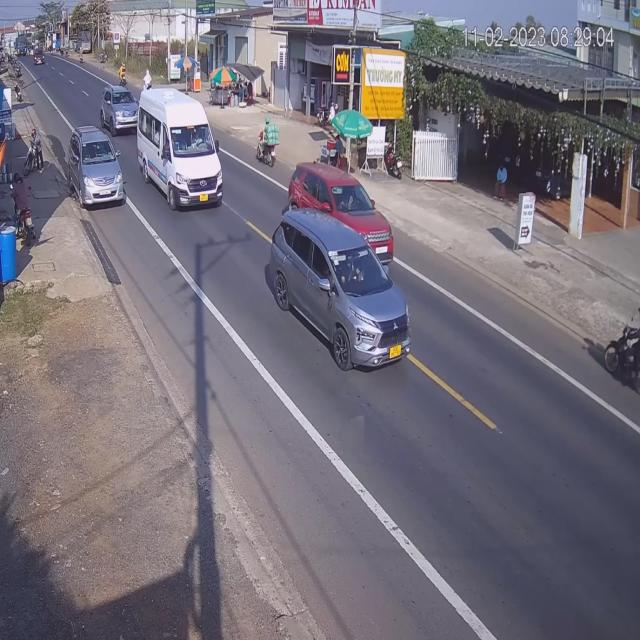bus: (137, 85, 223, 211)
car: (270, 209, 412, 372), (285, 164, 395, 265), (68, 124, 124, 208), (100, 86, 140, 136)
motorbike: (606, 308, 640, 403), (258, 116, 280, 168)
